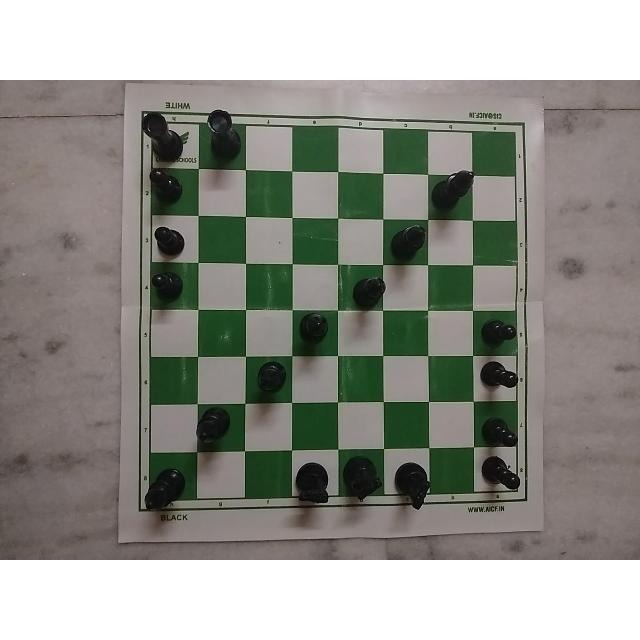black-bishop: (136, 457, 184, 516), (430, 163, 481, 213), (387, 221, 434, 269), (188, 400, 227, 451), (302, 304, 338, 351), (354, 271, 386, 314), (255, 356, 287, 398)
black-knight: (388, 452, 435, 515), (343, 447, 387, 505), (285, 461, 330, 515)
black-pawn: (477, 405, 524, 453), (145, 220, 193, 262), (476, 360, 527, 396), (478, 313, 524, 351), (147, 266, 190, 304), (146, 167, 186, 204)
black-rook: (138, 105, 183, 167), (200, 107, 245, 156)
